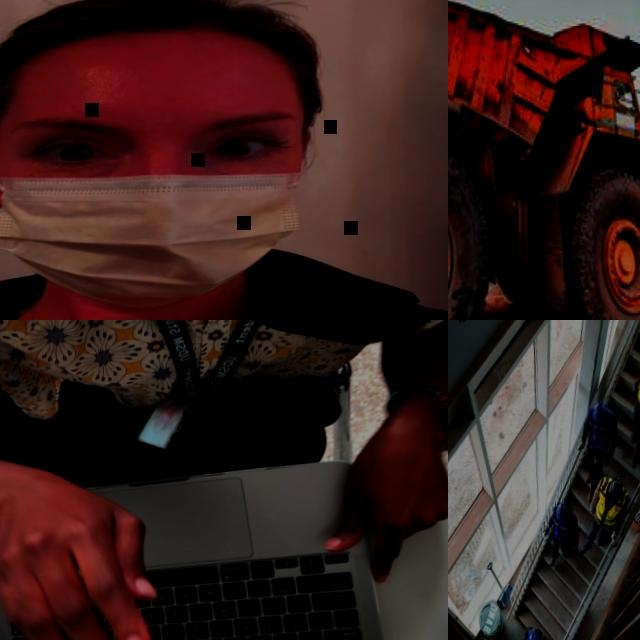Hardhat: (608, 479, 624, 504), (593, 402, 608, 427), (555, 503, 569, 525), (526, 632, 540, 640)
Mask: (0, 114, 321, 318)
NO-Hardhat: (0, 0, 317, 96)
NO-Safety Vest: (0, 320, 351, 417)
Person: (0, 0, 448, 320), (0, 320, 448, 640), (575, 476, 632, 557), (576, 401, 621, 503), (542, 503, 581, 569), (623, 333, 640, 470), (523, 627, 546, 640)
Safety Vest: (594, 476, 631, 527), (586, 406, 616, 455), (553, 504, 576, 541)
machinery: (448, 0, 640, 320)
